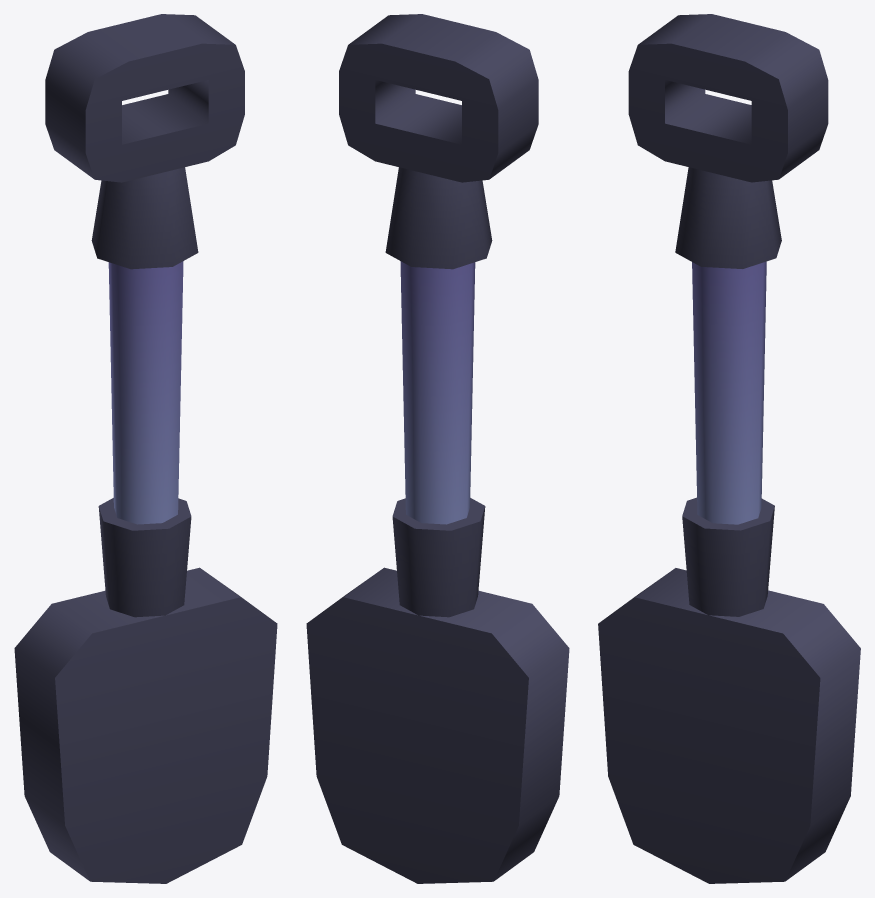
The model's file is tool-shovel.fbx.
3 renders of one model, left to right at view 1: azimuth 30°, elevation 25°; view 2: azimuth 150°, elevation 25°; view 3: azimuth 330°, elevation 25°, orthographic.
Visible parts, largest first — view 1: tool-shovel; view 2: tool-shovel; view 3: tool-shovel.
Boxes of the visible parts, <box> form: tool-shovel: <box>14,14,277,883</box>; tool-shovel: <box>306,14,569,883</box>; tool-shovel: <box>598,14,860,883</box>.
Size of the model in its own units: 65.78 by 235 by 28.29.
